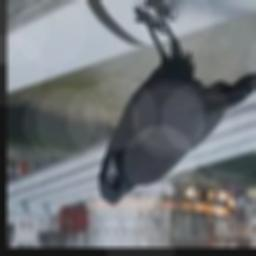Crow: (100, 0, 256, 204)
